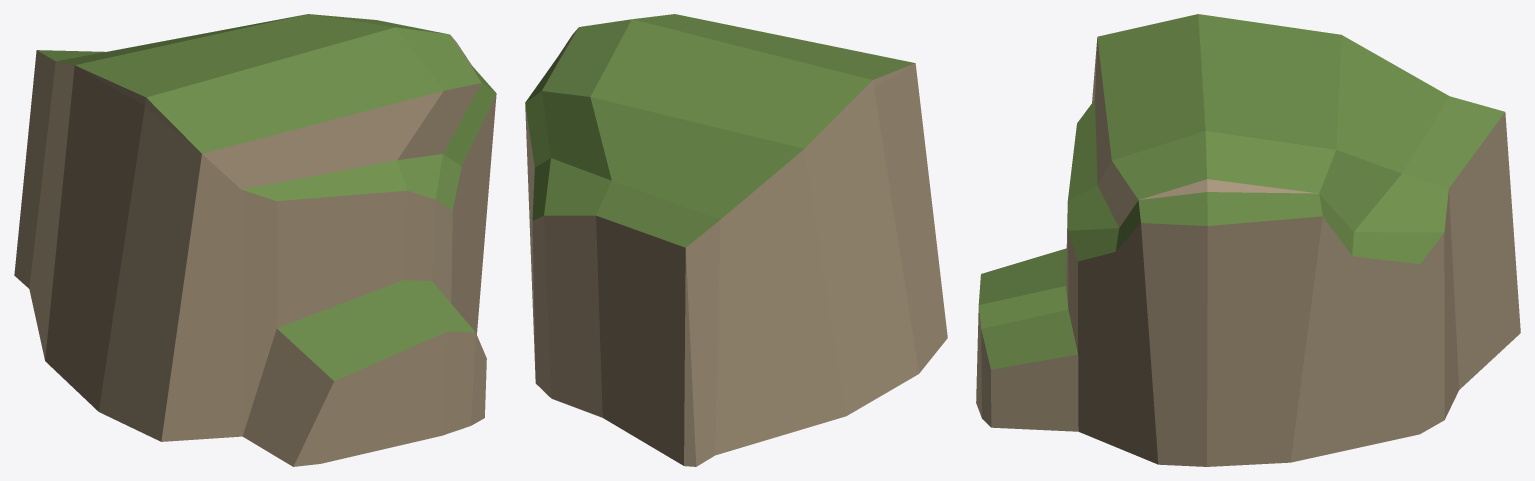
Rendered from rocher_moussu_4.glb.
3 views of the same model, side by side, from view 1: azimuth 30°, elevation 25°; view 2: azimuth 150°, elevation 25°; view 3: azimuth 270°, elevation 25° (orthographic). The views are drawn at different scales.
Parts seen in each view (by area): view 1: rocher_moussu_4; view 2: rocher_moussu_4; view 3: rocher_moussu_4.
Boxes of the visible parts, <box> form: rocher_moussu_4: <box>14,14,496,466</box>; rocher_moussu_4: <box>525,14,947,466</box>; rocher_moussu_4: <box>976,14,1520,466</box>.
Size of the model in its own units: 0.9148 by 0.71 by 1.15.
